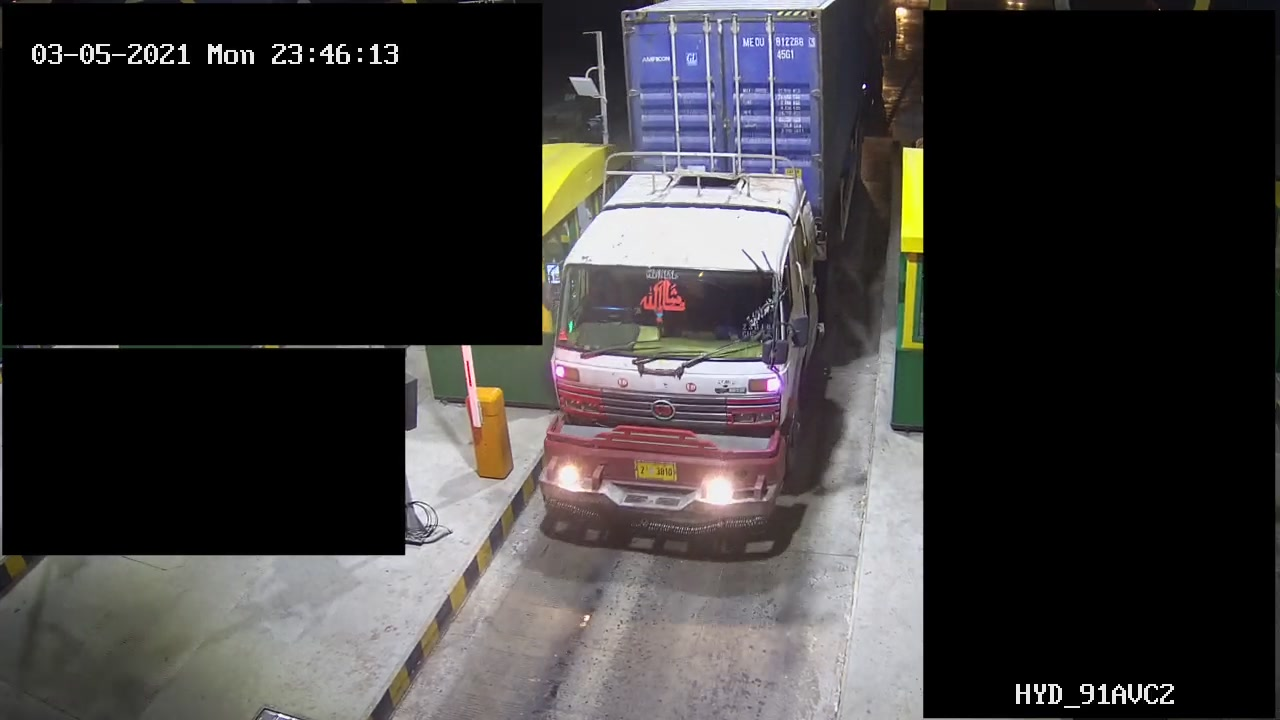F6: (536, 1, 870, 539)
